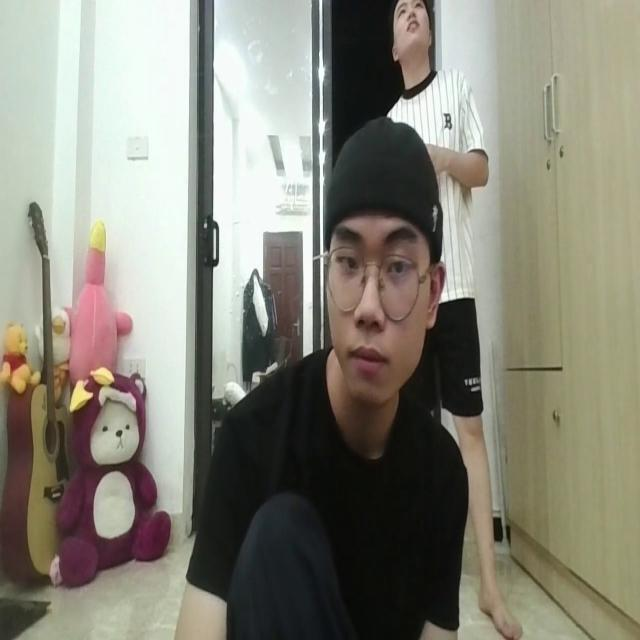extra_person: (388, 0, 488, 197)
student: (182, 106, 463, 640)
